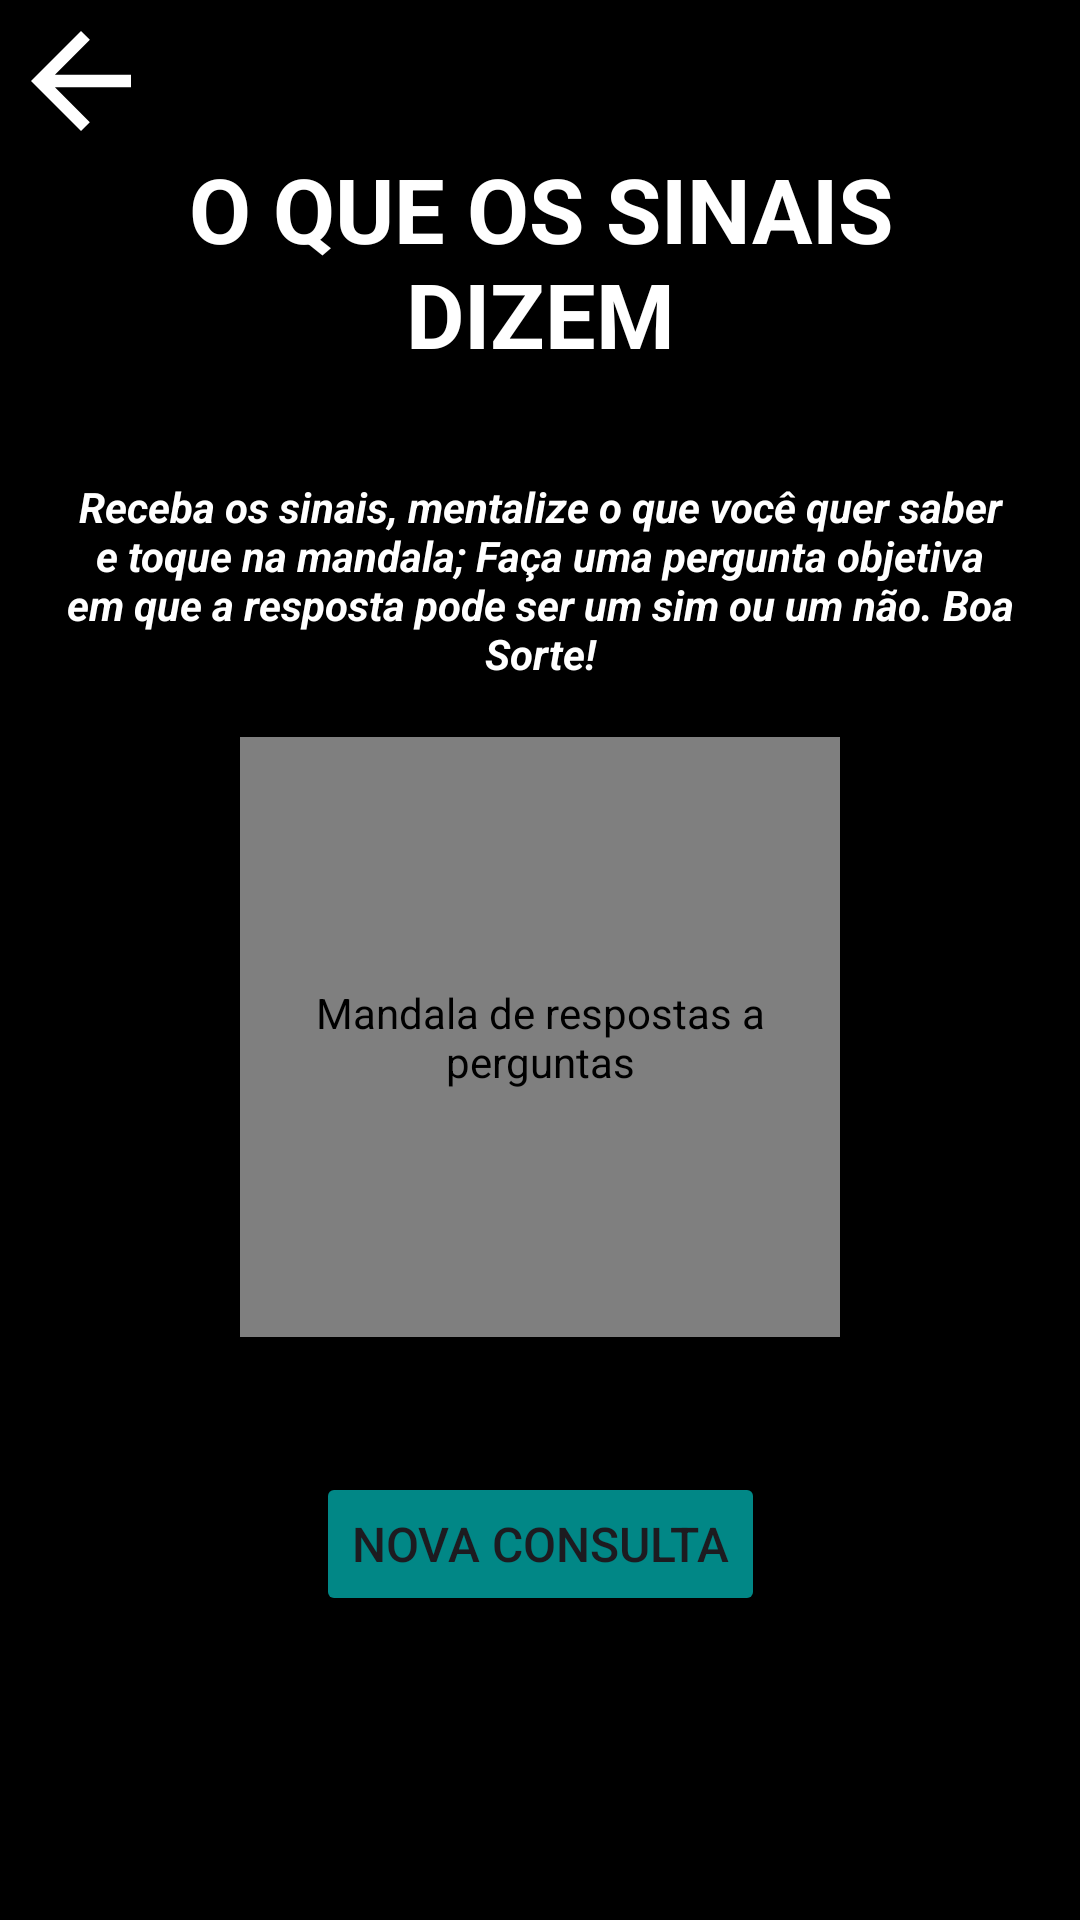

Locate icon controls on the screen. Image size 1080x1920, boxes as (x1, y1, x2, y2).
Voltar para a tela anterior: (31, 31, 131, 131)
